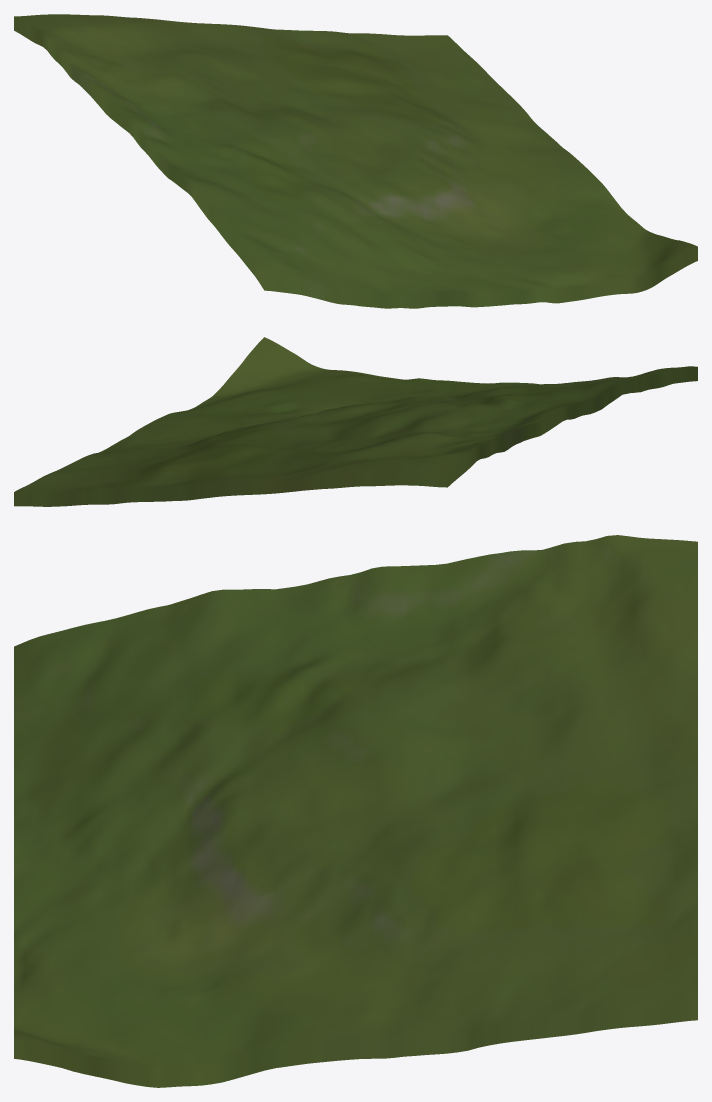
Rendered from terrain_5_-7.glb.
3 renders of one model, top to bottom at view 1: azimuth 30°, elevation 25°; view 2: azimuth 150°, elevation 25°; view 3: azimuth 270°, elevation 25°, orthographic. The views are drawn at different scales.
Visible parts, largest first — view 1: terrain_5_-7; view 2: terrain_5_-7; view 3: terrain_5_-7.
Part boxes in pixels (left/top/right/bottom): terrain_5_-7: left=14, top=14, right=697, bottom=308; terrain_5_-7: left=14, top=337, right=697, bottom=506; terrain_5_-7: left=14, top=535, right=697, bottom=1087.
Size of the model in its own units: 256 by 109 by 256.
